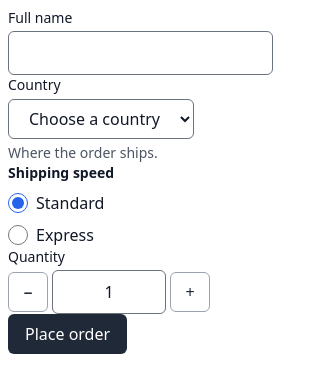
form composition (FormField + Select + RadioGroup + Counter) › focuses each composed control when its label is clicked
The image size is (320, 371).
Click the text "Full name": point(40, 18) top-left (8, 8), bottom-right (72, 27)
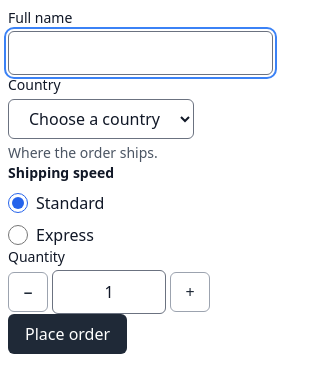
Click the text "Country": point(34, 85) top-left (8, 75), bottom-right (61, 95)
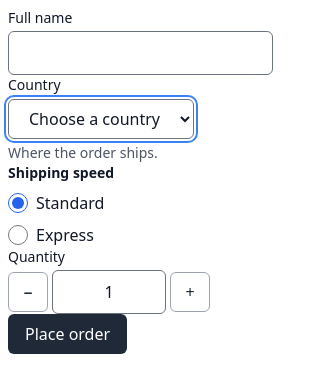
// FormField's htmlFor wiring must reach through Counter's wrapper to its inner number input.
Click the text "Quantity": point(36, 256) top-left (8, 247), bottom-right (65, 266)
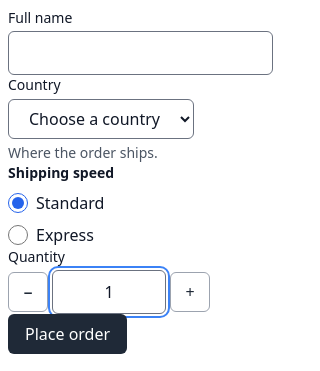
Click the text "Express": point(51, 235) top-left (8, 224), bottom-right (94, 246)
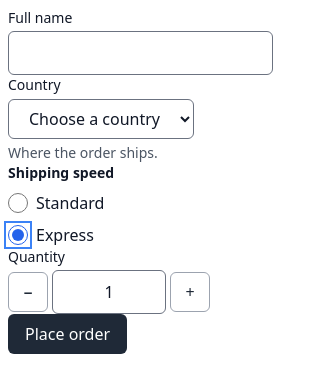
Expected: the radio button labelled "Express" is checked, top-left (8, 225), bottom-right (28, 245)
Expected: the radio button labelled "Standard" is not checked, top-left (8, 193), bottom-right (28, 213)
